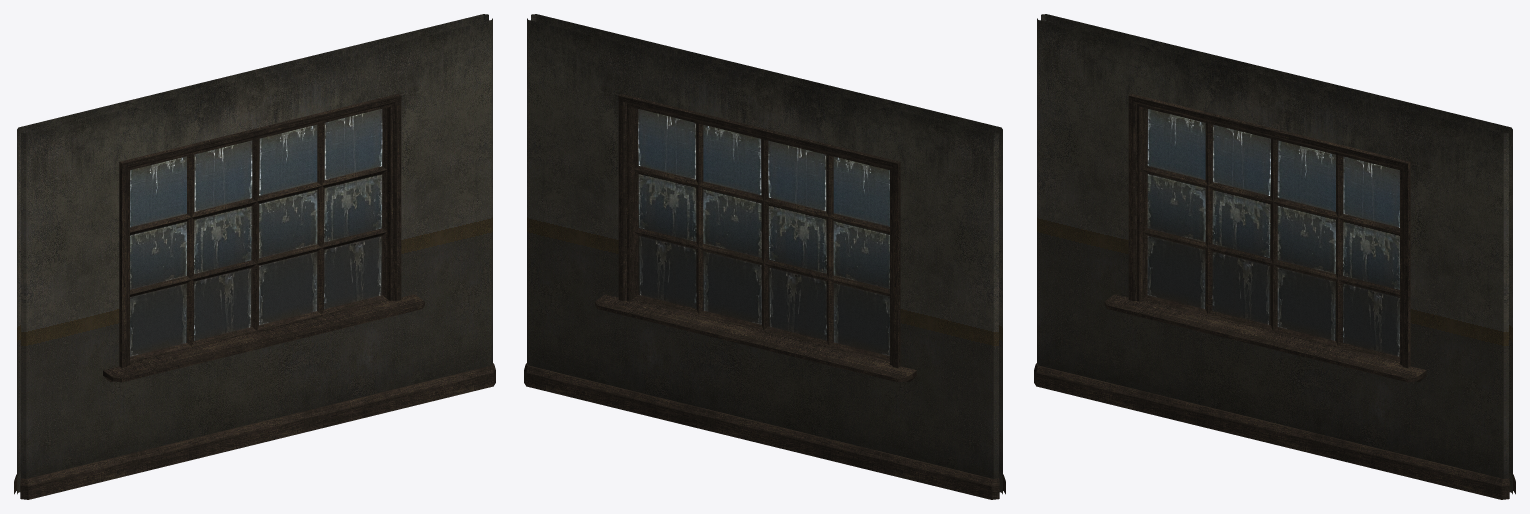
Rendered from window_2_double.glb.
3 views of the same model, side by side, from view 1: azimuth 30°, elevation 25°; view 2: azimuth 150°, elevation 25°; view 3: azimuth 330°, elevation 25° (orthographic).
Parts seen in each view (by area): view 1: window_2_double; view 2: window_2_double; view 3: window_2_double.
Boxes of the visible parts, box(x1,y1,x2,y2) form: window_2_double: box(14, 14, 495, 499); window_2_double: box(524, 14, 1005, 499); window_2_double: box(1034, 14, 1515, 499).
Size of the model in its own units: 4.09 by 3 by 0.52.
3 materials, 3 textured.
